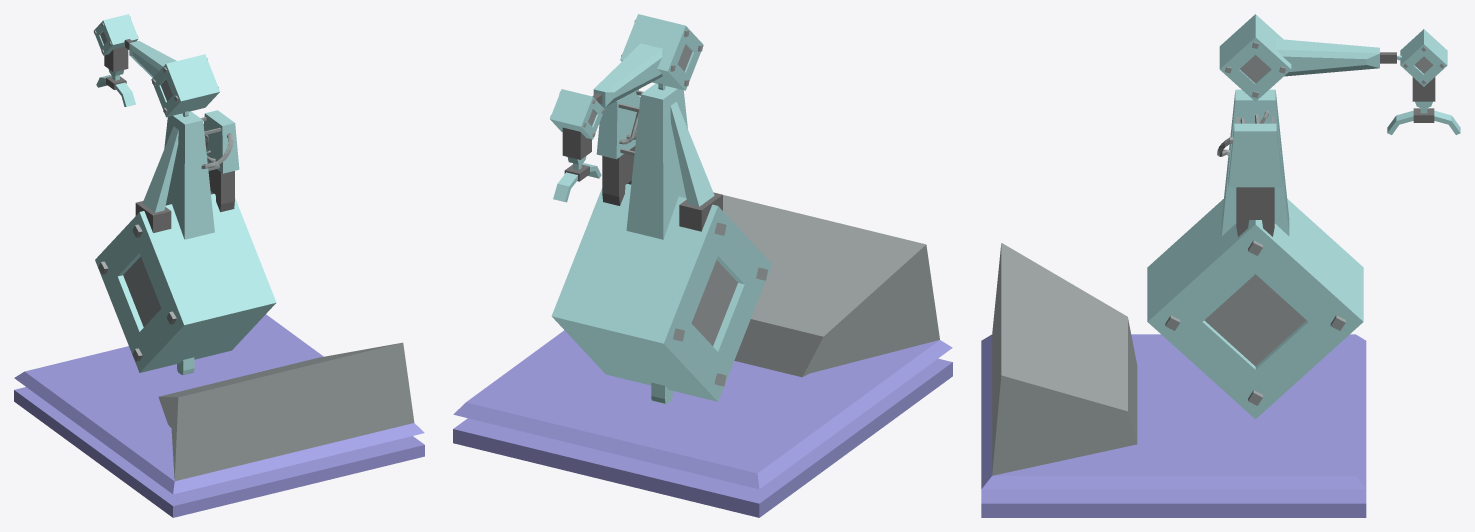
File: Bra+ºo Mecanico Sele+º+úo.fbx
The picture shows the model from 3 angles, left to right: view 1: azimuth 30°, elevation 25°; view 2: azimuth 150°, elevation 25°; view 3: azimuth 270°, elevation 25°; orthographic projection. The views are drawn at different scales.
Visible parts, largest first — view 1: Cube.001; view 2: Cube.001; view 3: Cube.001.
Boxes of the visible parts, <box> form: Cube.001: <box>14,14,424,517</box>; Cube.001: <box>453,14,952,517</box>; Cube.001: <box>981,14,1460,517</box>.
Size of the model in its own units: 446 by 584 by 607.
